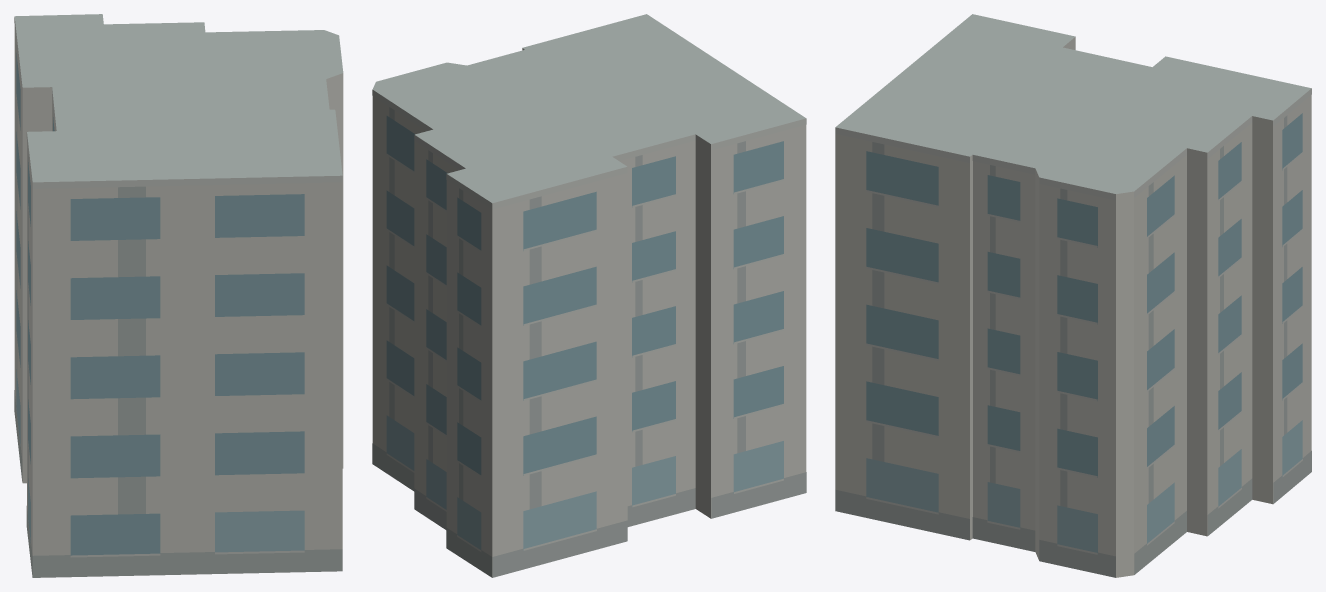
File: survey-upis-32688910.glb
3 views of the same model, side by side, from view 1: azimuth 30°, elevation 25°; view 2: azimuth 150°, elevation 25°; view 3: azimuth 270°, elevation 25° (orthographic). The views are drawn at different scales.
Visible parts, largest first — view 1: survey-upis-32688910.tmp; view 2: survey-upis-32688910.tmp; view 3: survey-upis-32688910.tmp.
Boxes of the visible parts, x1,y1,x2,y2 form: survey-upis-32688910.tmp: (14, 14, 343, 577); survey-upis-32688910.tmp: (372, 14, 806, 577); survey-upis-32688910.tmp: (835, 14, 1311, 577).
Size of the model in its own units: 14.61 by 14.5 by 16.33.
